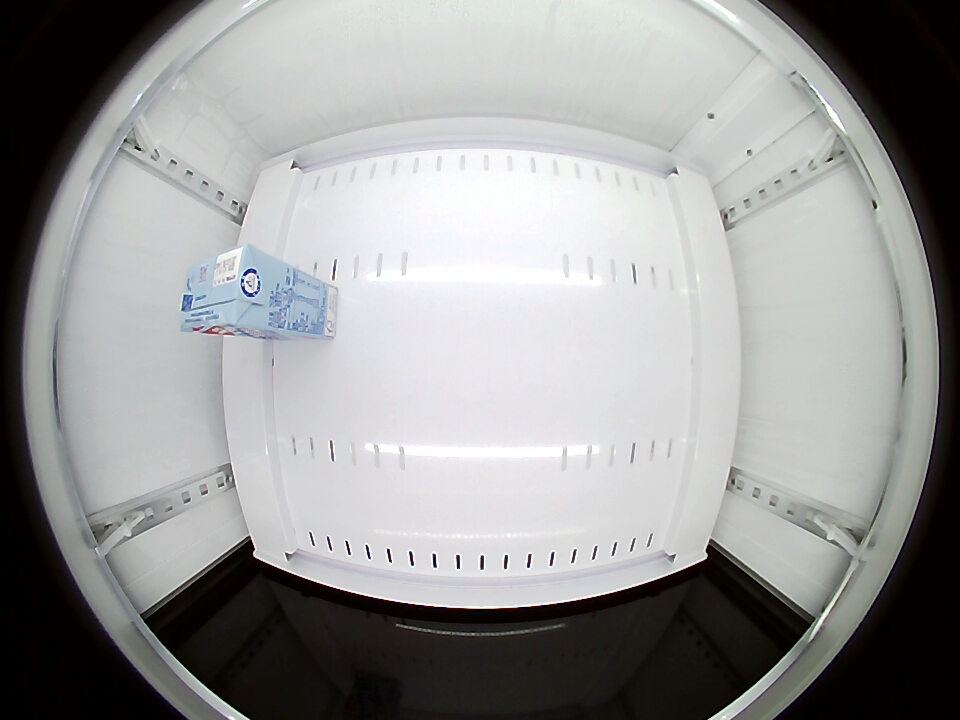weitanaiditang: (181, 245, 281, 337)
